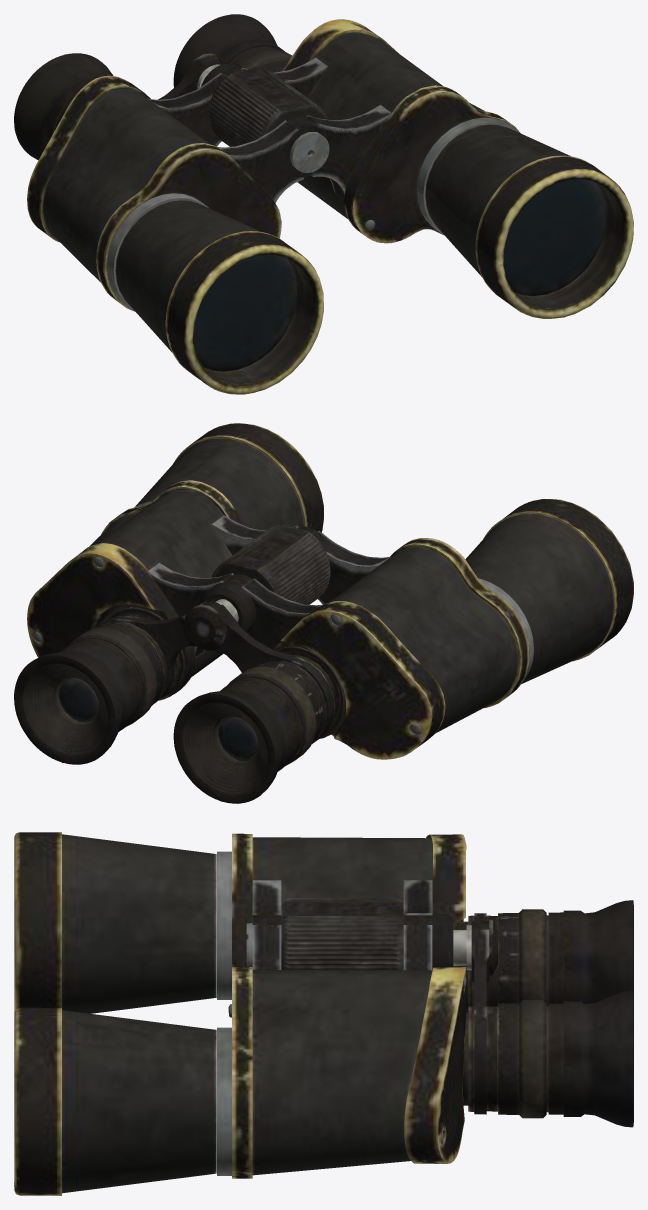
Rendered from ph_vintage_binocular.glb.
3 renders of one model, top to bottom at view 1: azimuth 30°, elevation 25°; view 2: azimuth 150°, elevation 25°; view 3: azimuth 270°, elevation 25°, orthographic. The views are drawn at different scales.
Visible parts, largest first — view 1: vintage_binocular_left_lens; view 2: vintage_binocular_left_lens; view 3: vintage_binocular_left_lens.
Boxes of the visible parts, box(x1,y1,x2,y2) form: vintage_binocular_left_lens: box(14, 14, 633, 394); vintage_binocular_left_lens: box(14, 423, 633, 803); vintage_binocular_left_lens: box(14, 832, 633, 1195).
Size of the model in its own units: 0.1941 by 0.0685 by 0.1993.
1 material, 1 textured.
